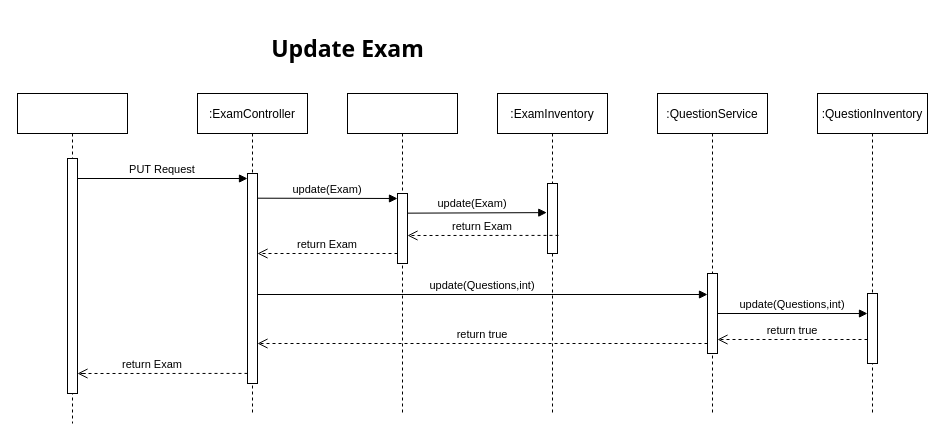
Image size: 945x441. Some labels were removed from this diagram. Each missing label, with the box of its shape:
:ExamService: (346, 92, 458, 414)
:WebApp: (16, 92, 128, 424)
